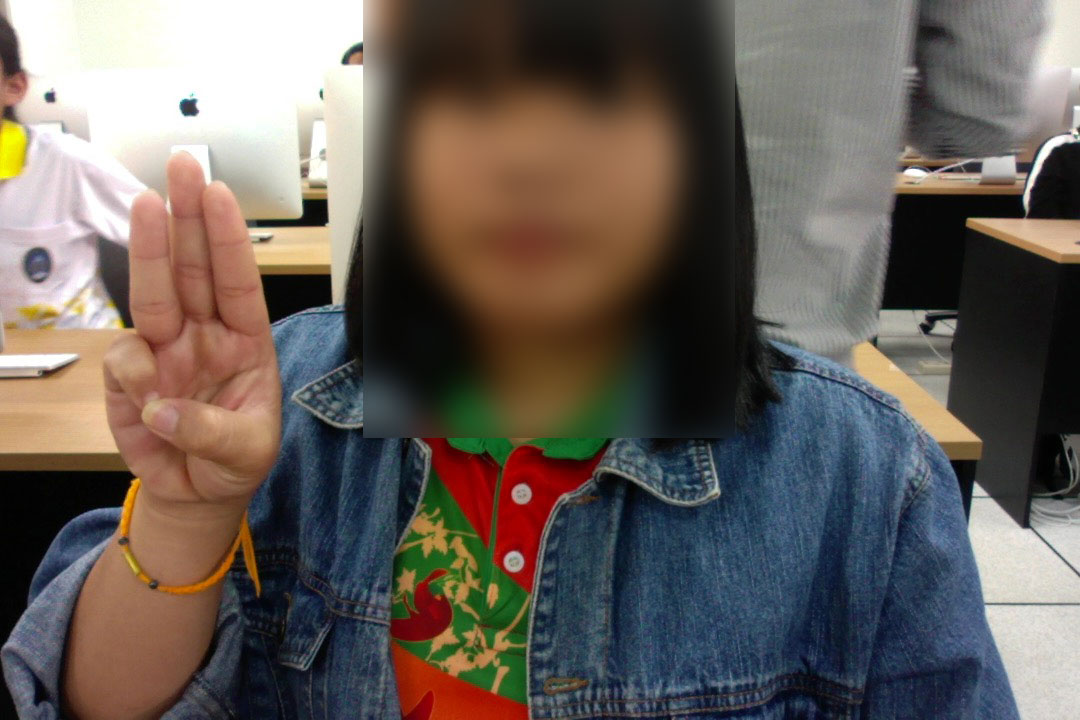wor: (84, 153, 288, 521)
